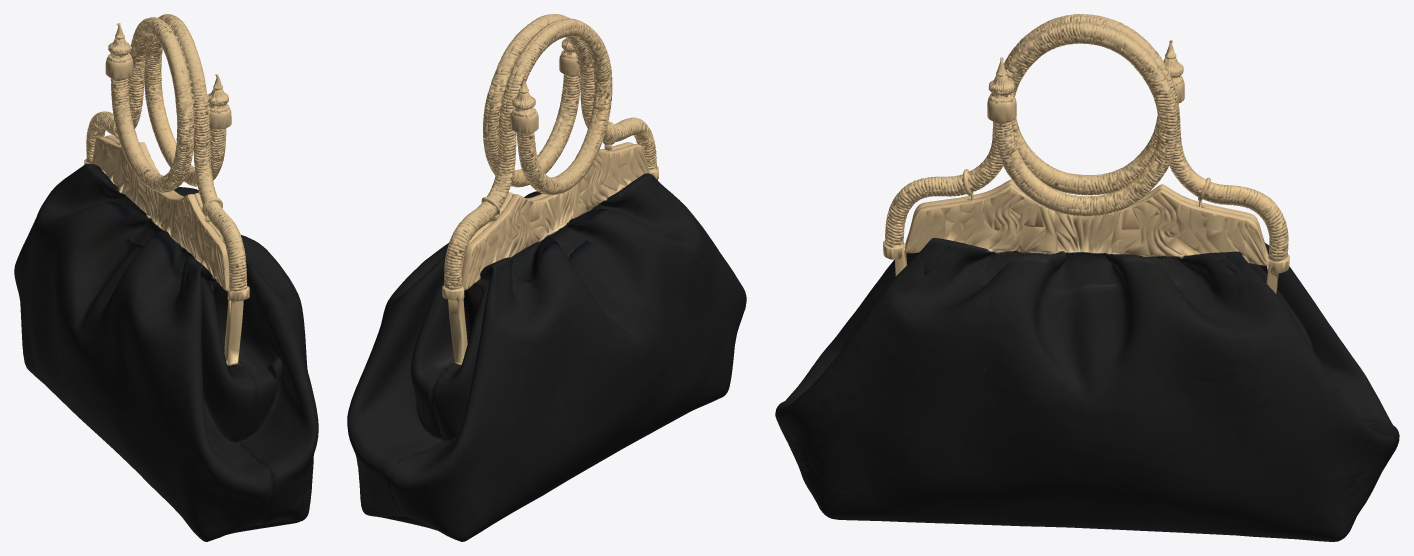
Rendered from bag_luxury.optimized.glb.
3 views of the same model, side by side, from view 1: azimuth 30°, elevation 25°; view 2: azimuth 150°, elevation 25°; view 3: azimuth 270°, elevation 25° (orthographic). The views are drawn at different scales.
Visible parts, largest first — view 1: tripo_node_da770ff7-dc4c-474a-bfbf-2d51b4d0757e; view 2: tripo_node_da770ff7-dc4c-474a-bfbf-2d51b4d0757e; view 3: tripo_node_da770ff7-dc4c-474a-bfbf-2d51b4d0757e.
Part boxes in pixels (<box>): tripo_node_da770ff7-dc4c-474a-bfbf-2d51b4d0757e: <box>14,14,318,541</box>; tripo_node_da770ff7-dc4c-474a-bfbf-2d51b4d0757e: <box>347,14,746,541</box>; tripo_node_da770ff7-dc4c-474a-bfbf-2d51b4d0757e: <box>775,14,1399,541</box>.
Size of the model in its own units: 0.3867 by 0.8655 by 0.9797.
Materials: 1 (1 with a texture image).
